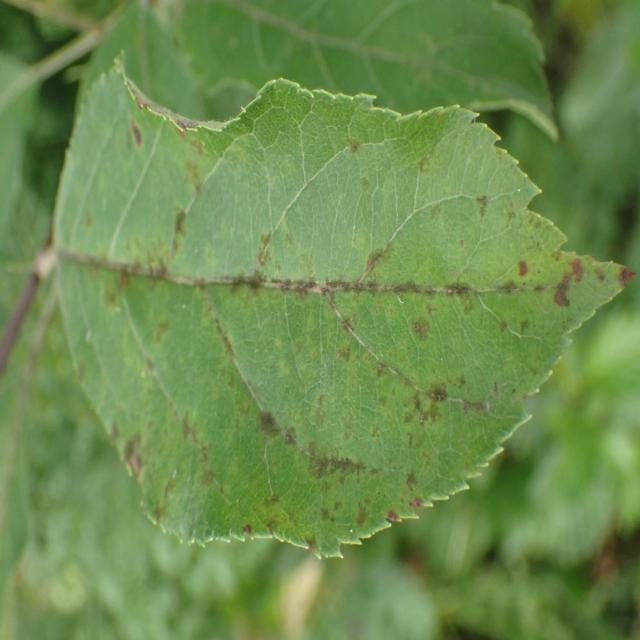scab: (61, 51, 631, 564)
